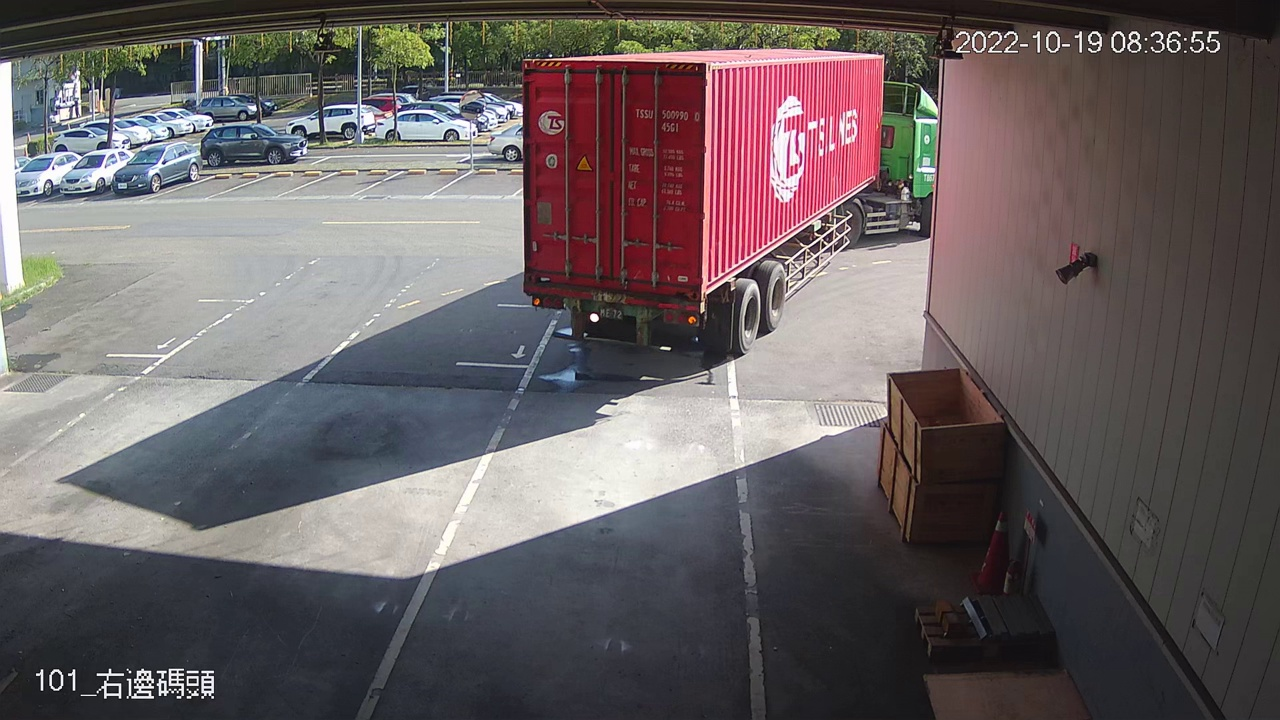container: (630, 103, 702, 137)
